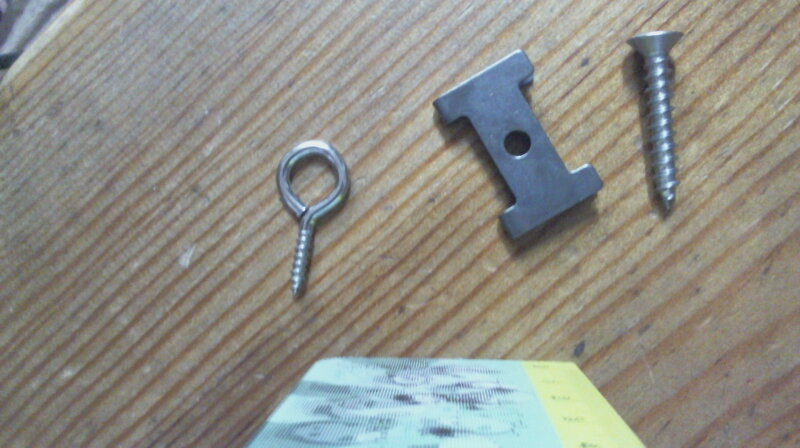O001: (274, 139, 354, 303)
O002: (427, 46, 605, 244)
S001: (622, 25, 688, 217)
